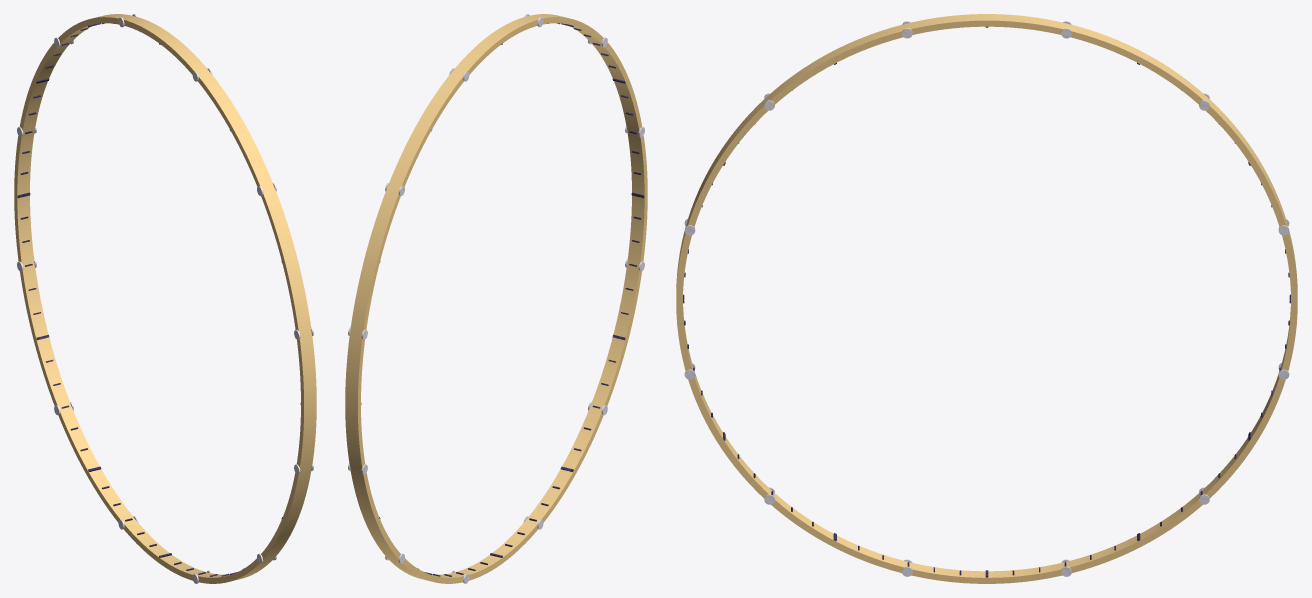
Rendered from HubRing_A.gltf.
The picture shows the model from 3 angles, left to right: view 1: azimuth 30°, elevation 25°; view 2: azimuth 150°, elevation 25°; view 3: azimuth 270°, elevation 25°; orthographic projection. The views are drawn at different scales.
Parts seen in each view (by area): view 1: HubRing_A; view 2: HubRing_A; view 3: HubRing_A.
Part boxes in pixels (x1,y1,x2,y2): HubRing_A: (14, 14, 316, 583); HubRing_A: (345, 14, 647, 583); HubRing_A: (676, 14, 1297, 583).
Size of the model in its own units: 0.66 by 22.24 by 22.24.
3 materials, 2 textured.
